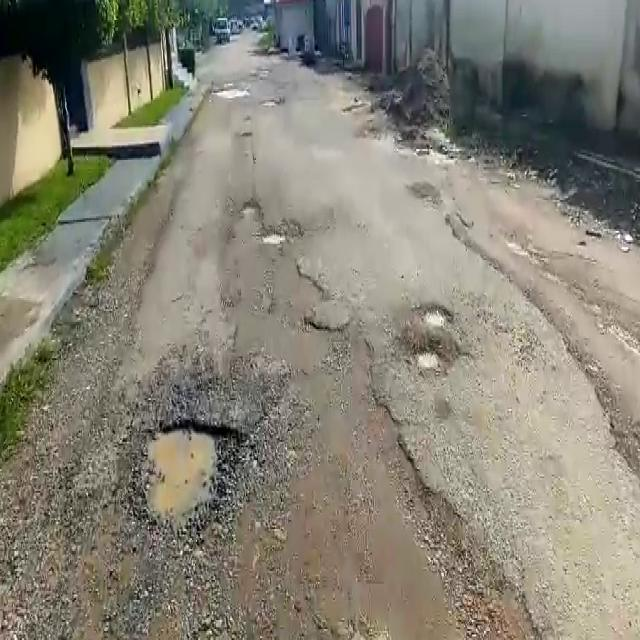Pothole: (144, 425, 245, 543), (420, 303, 453, 330), (415, 350, 442, 372), (262, 231, 286, 248), (239, 199, 261, 216)
